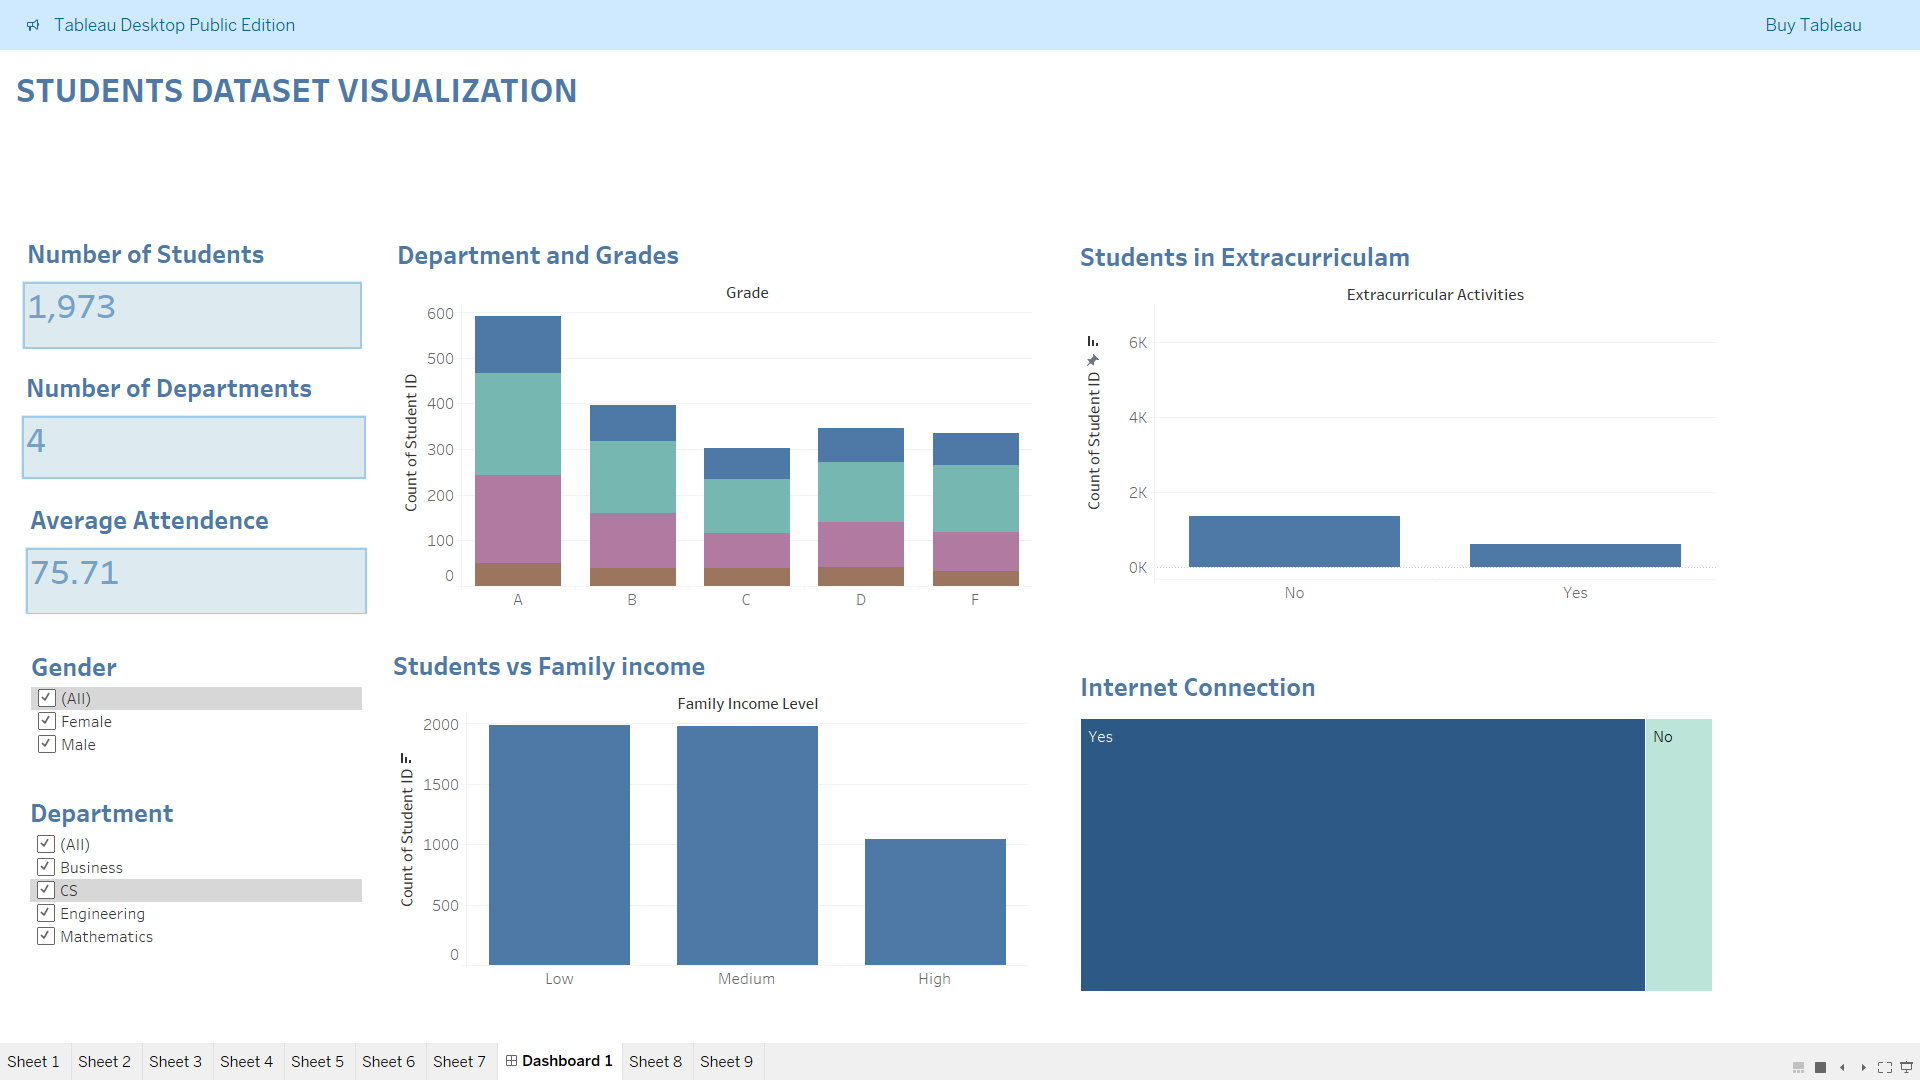

The page's visual inventory and layout, read from the dashboard file:
{"tool":"tableau","page":{"name":"Dashboard 1","canvas":[1000,1000],"units":"permille","ordinal":0},"visuals":[{"type":"worksheet","title":"Sheet 6","mark":"Automatic","box":[4.8,10,990.4,980]},{"type":"worksheet","title":"Sheet 4","mark":"Automatic","box":[11.5,183.5,176.8,121.1]},{"type":"worksheet","title":"Sheet 2","mark":"Automatic","rows":["Student_ID"],"cols":["Grade"],"box":[204.6,184.8,333.1,380.8]},{"type":"worksheet","title":"Sheet 1","mark":"Automatic","rows":["Student_ID"],"cols":["Extracurricular_Activities"],"box":[560.6,186,333.1,372]},{"type":"worksheet","title":"Sheet 5","mark":"Automatic","box":[10.9,318.4,179.8,113.6]},{"type":"worksheet","title":"Sheet 8","mark":"Automatic","box":[13.2,450.7,178.3,117.4]},{"type":"worksheet","title":"Sheet 3","mark":"Automatic","rows":["Student_ID"],"cols":["Family_Income_Level"],"box":[202.4,598,333.1,348.3]},{"type":"filter","title":"Sheet 1","param":"[federated.0n0r9on01tr7pv1byqbvc0id237k].[none:Gender:nk]","box":[16.3,603,172.3,143.6]},{"type":"worksheet","title":"Sheet 7","mark":"Automatic","box":[560.2,619.2,333.1,333.3]},{"type":"filter","title":"Sheet 1","param":"[federated.0n0r9on01tr7pv1byqbvc0id237k].[none:Department:nk]","box":[15.7,750.3,172.9,206]}]}

Visuals, with their boxes on the dashboard's canvas, which has no fixed pixel size, in thousandths of its width and height (x1, y1, x2, y2). These are canvas units, not pixel positions in the 1920x1080 screenshot, which may show the page scaled, cropped or inside an application window:
"Sheet 6" worksheet: <bbox>5, 10, 995, 990</bbox>
"Sheet 4" worksheet: <bbox>12, 184, 188, 305</bbox>
"Sheet 2" worksheet: <bbox>205, 185, 538, 566</bbox>
"Sheet 1" worksheet: <bbox>561, 186, 894, 558</bbox>
"Sheet 5" worksheet: <bbox>11, 318, 191, 432</bbox>
"Sheet 8" worksheet: <bbox>13, 451, 192, 568</bbox>
"Sheet 3" worksheet: <bbox>202, 598, 536, 946</bbox>
"Sheet 1" filter: <bbox>16, 603, 189, 747</bbox>
"Sheet 7" worksheet: <bbox>560, 619, 893, 952</bbox>
"Sheet 1" filter: <bbox>16, 750, 189, 956</bbox>
